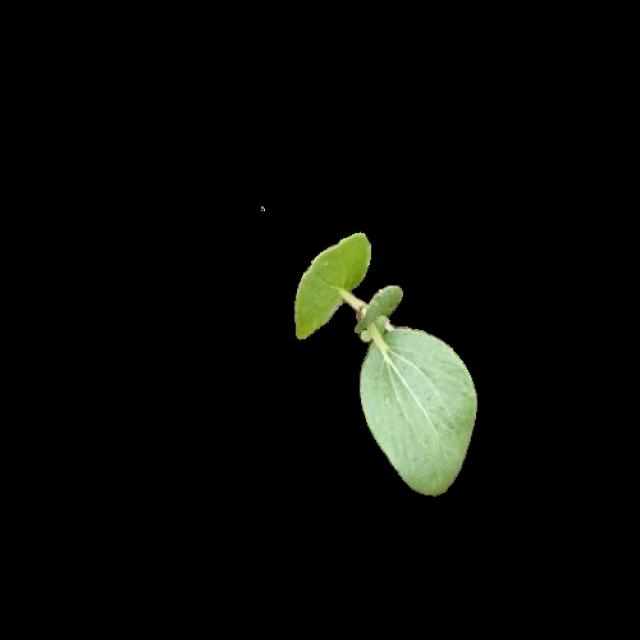healthy: (289, 232, 474, 492)
not-mature: (292, 234, 476, 494)
